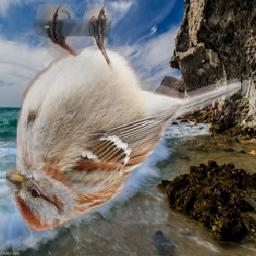Sparrow: (7, 5, 242, 232)
